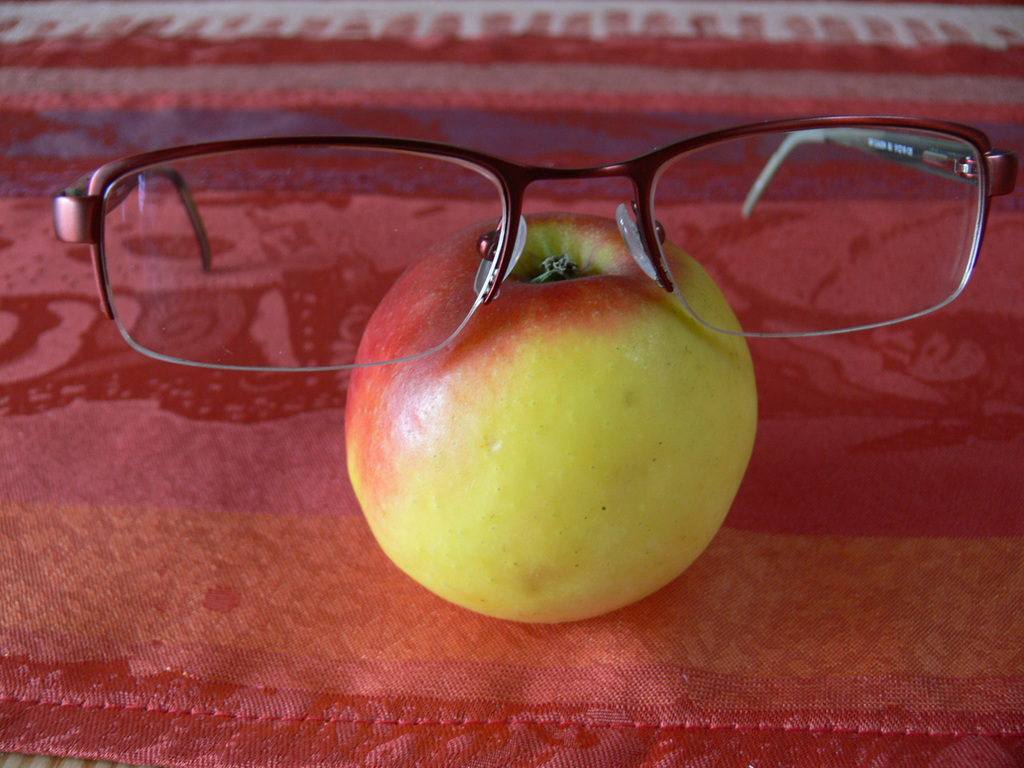Apple: (338, 206, 758, 620)
